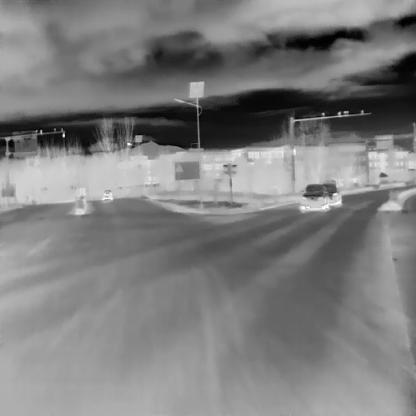car: (300, 183, 329, 210), (322, 182, 342, 205), (101, 188, 112, 200)
